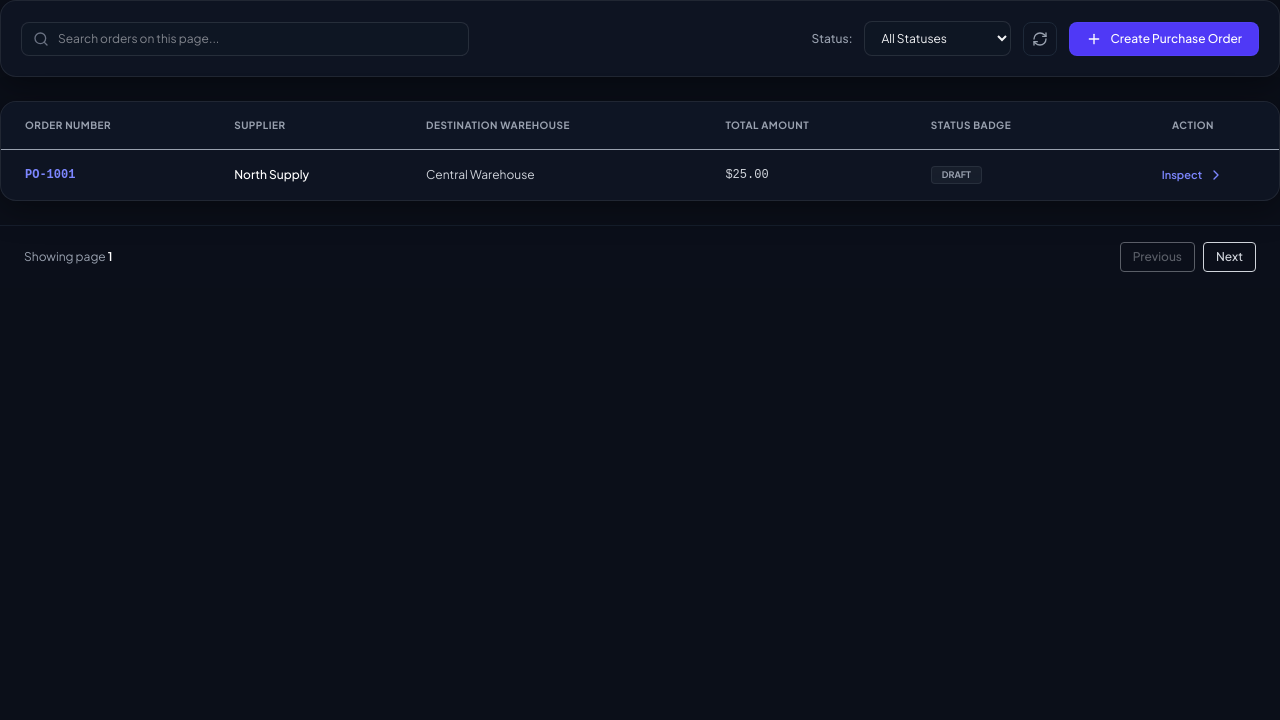
Test: purchase orders › returns to server page zero after create and separates refresh failure from success: true
The width and height of the screenshot is (1280, 720).
Expected: the text "PO-1001" is shown, top-left (1, 150), bottom-right (210, 200)
Click the button "Next". click: (1230, 257)
box: top-left (1203, 242), bottom-right (1256, 272)
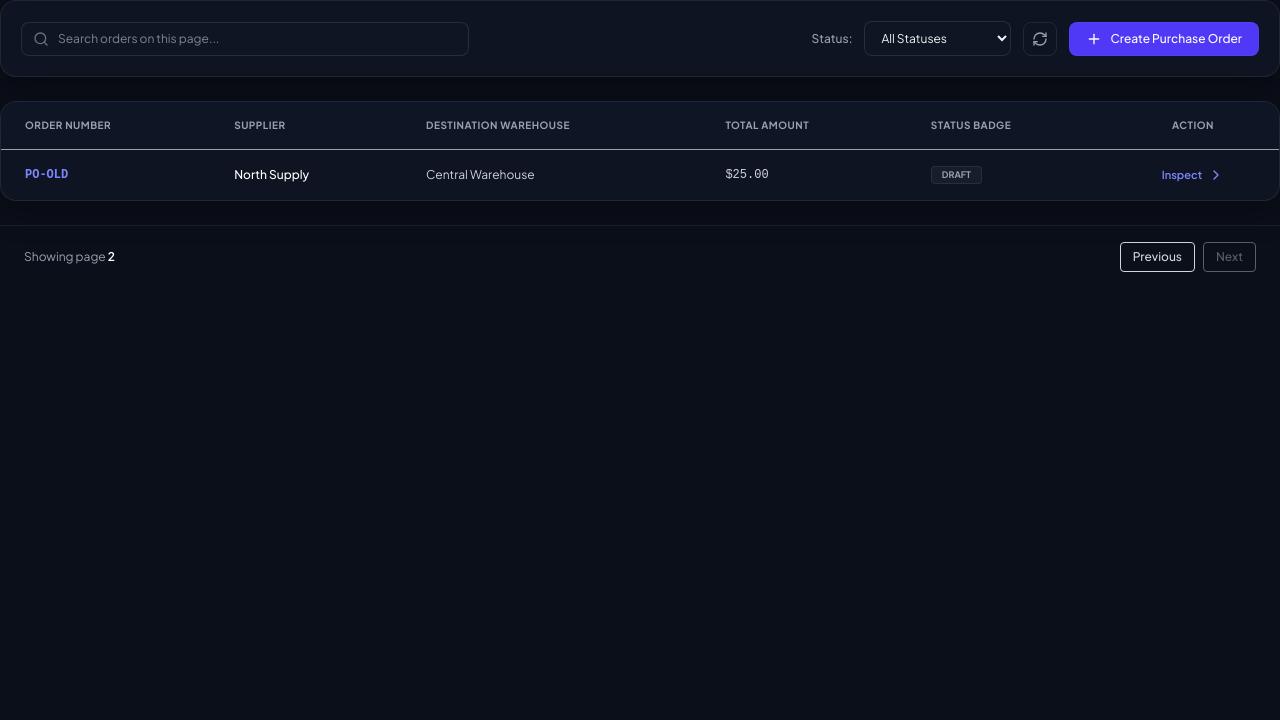
Expected: the text "PO-OLD" is shown, top-left (1, 150), bottom-right (210, 200)
Click the button "Create Purchase Order". click: (1164, 38)
box: top-left (1070, 22), bottom-right (1259, 56)
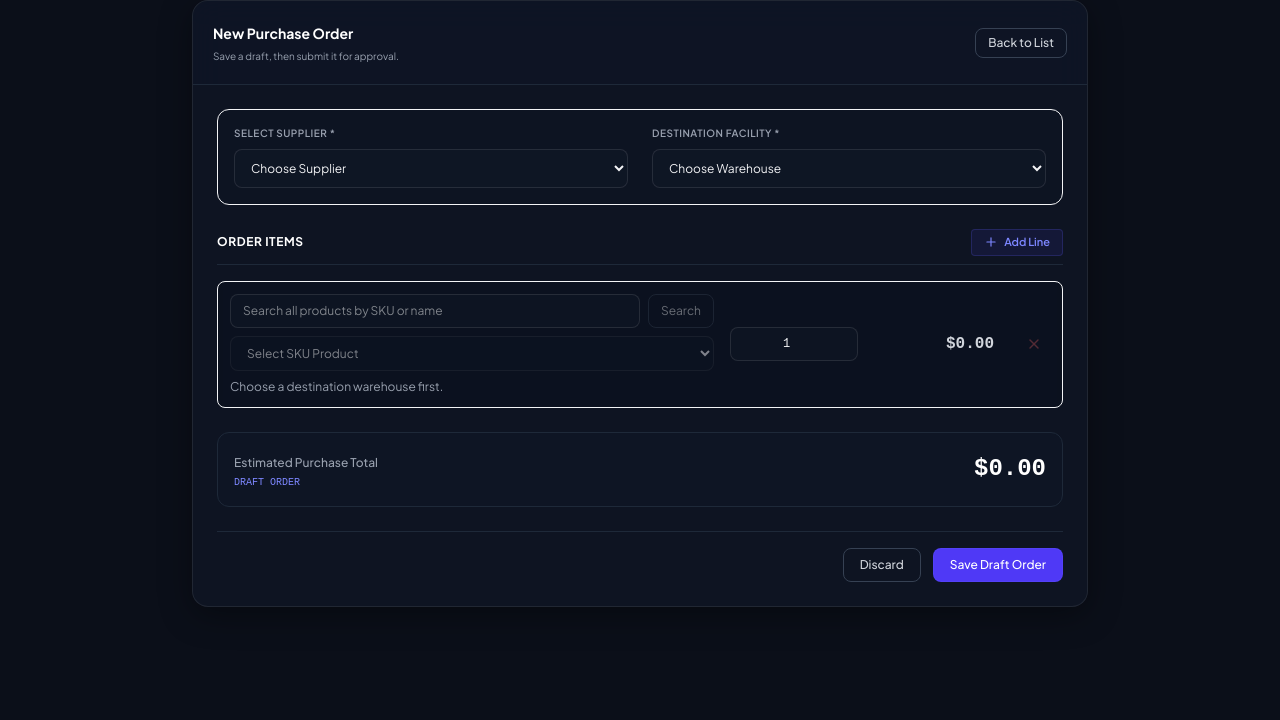
Select "North Supply" in the dropdown below "Select Supplier *". click: (431, 168)
box: top-left (234, 149), bottom-right (628, 188)
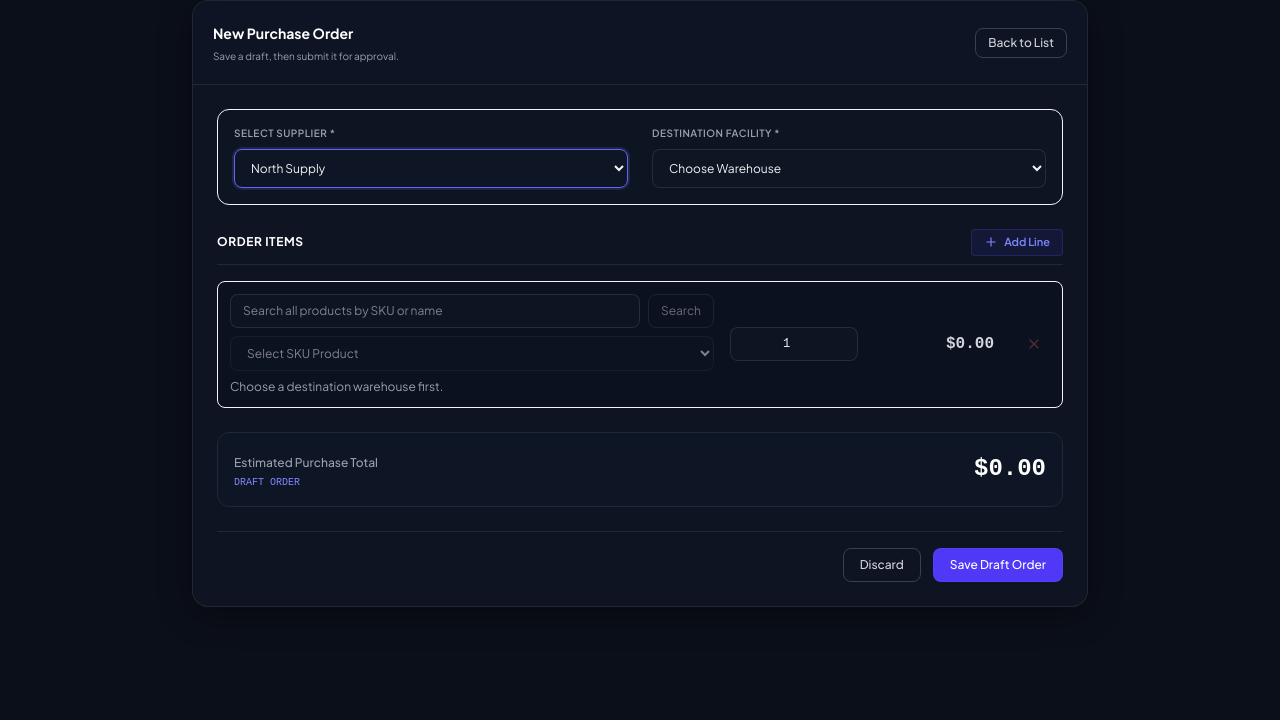
Select "Central Warehouse" in the dropdown below "Destination Facility *". click: (849, 168)
box: top-left (652, 149), bottom-right (1046, 188)
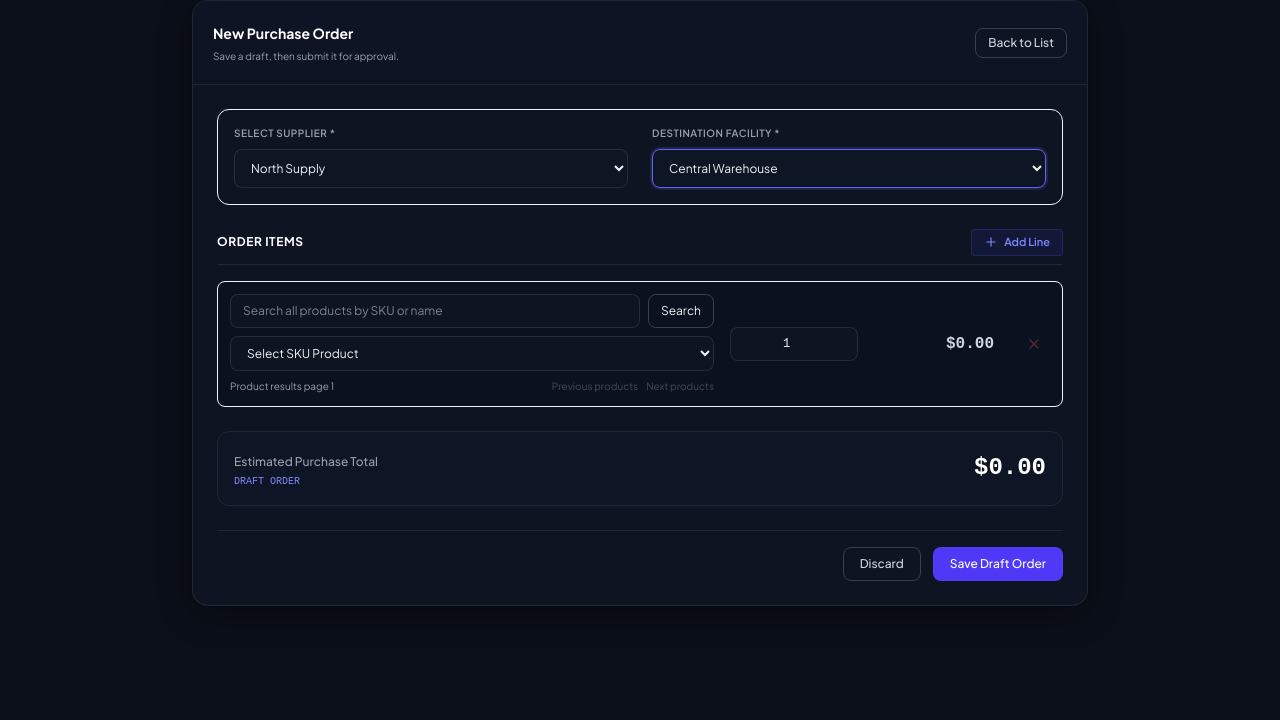
Select "SOAP-01 - Hand Soap ($12.50)" in the dropdown named "Select SKU Product". click: (472, 353)
box: top-left (230, 336), bottom-right (714, 370)
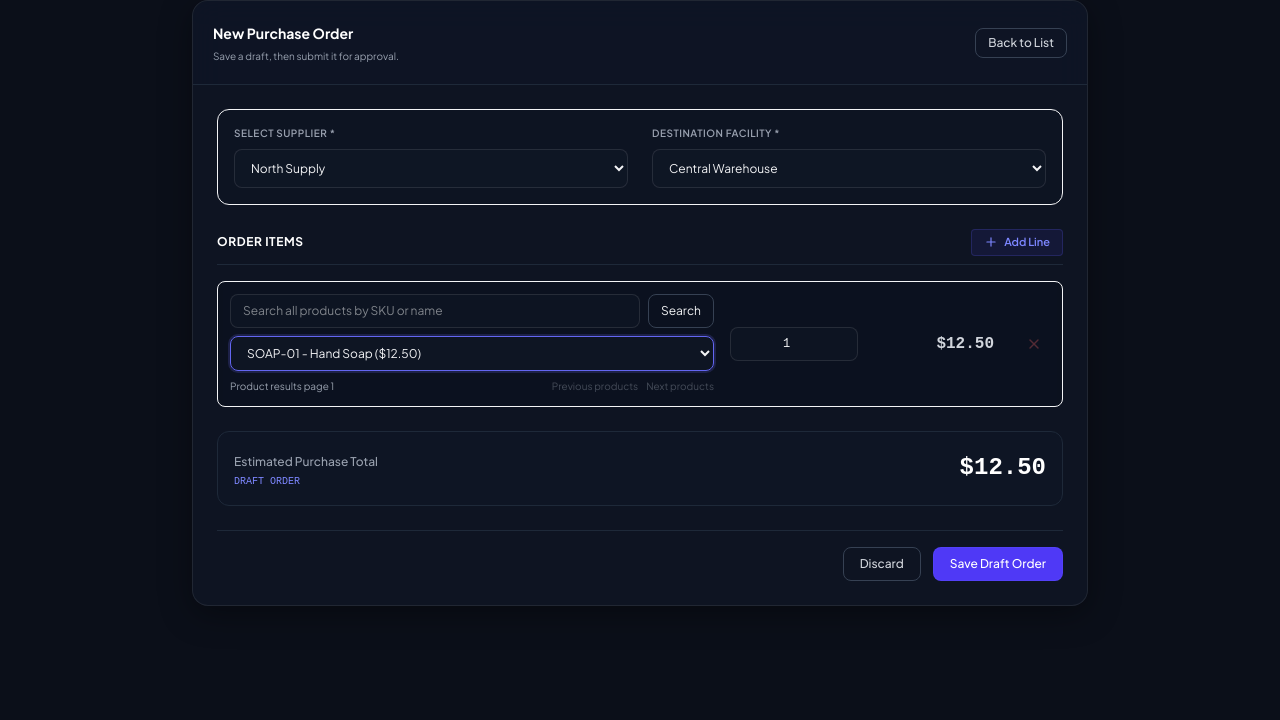
Click the button "Save Draft Order". click: (998, 564)
box: top-left (933, 546), bottom-right (1063, 580)
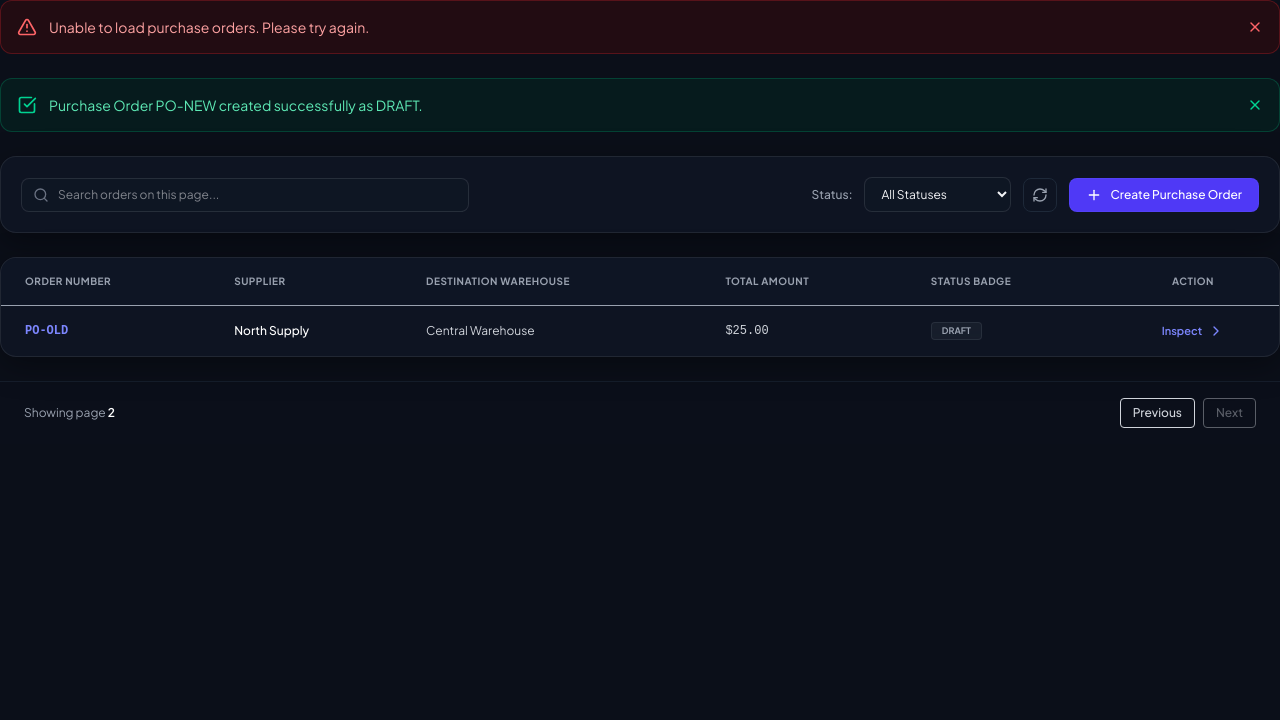
Expected: the text "Purchase Order PO-NEW created successfully as DRAFT." is shown, top-left (49, 95), bottom-right (423, 115)
Expected: the text "New Purchase Order" is gone
Expected: the text "Unable to load purchase orders. Please try again." is shown, top-left (49, 17), bottom-right (369, 37)
